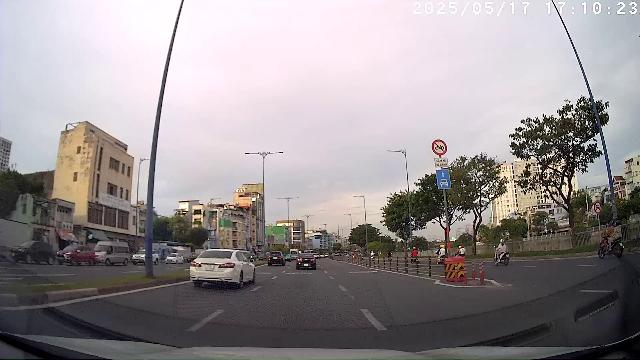103a-cam-oto: (594, 202, 602, 214)
